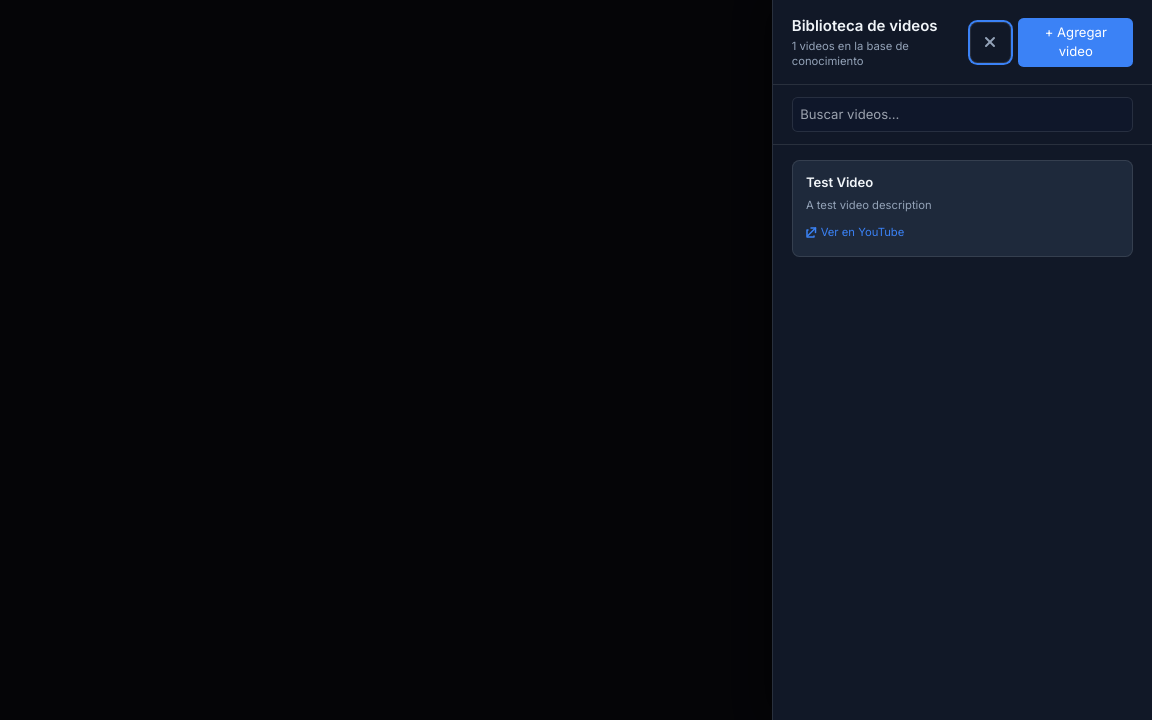
VideoExplorer › handleIngest › shows error message when ingest fails
Expected: the text "Test Video" is shown, 806,174 -> 873,190
Note: Open the ingest dialog
Click the button "+ Agregar video".
click(1076, 42)  # box 1018,18 -> 1133,67
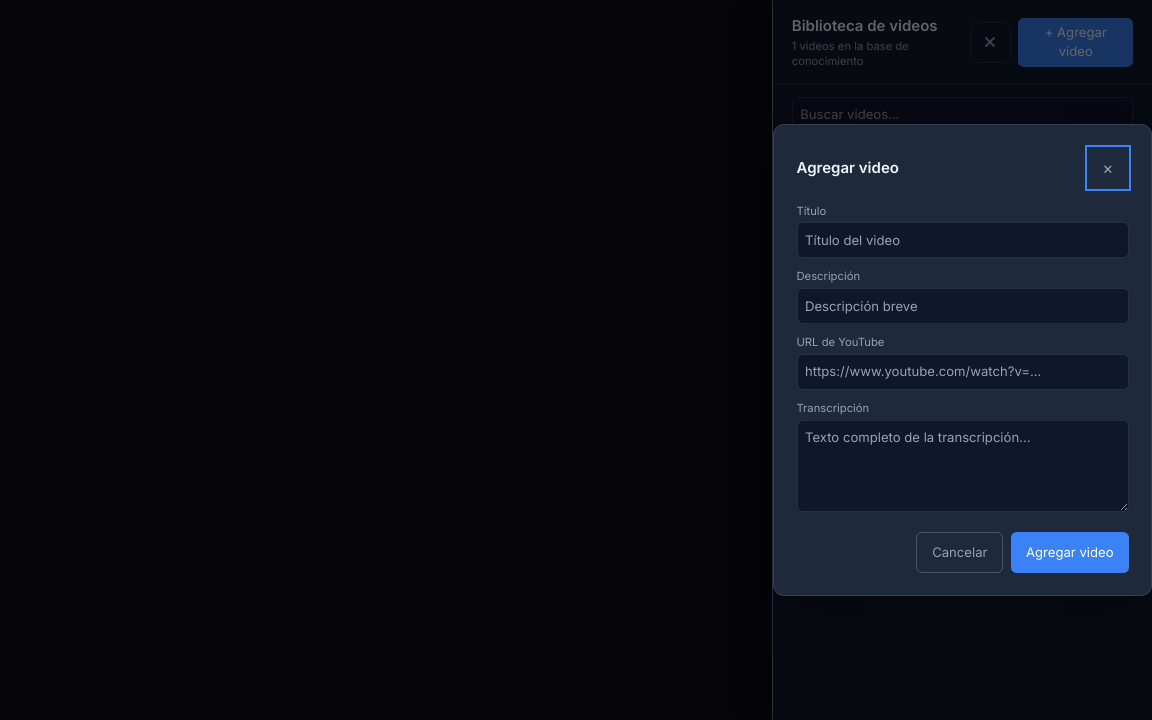
Note: Fill all fields
Type "New Video" into the field labelled "Título".
click(962, 240); type("New Video")  # box 796,222 -> 1128,258
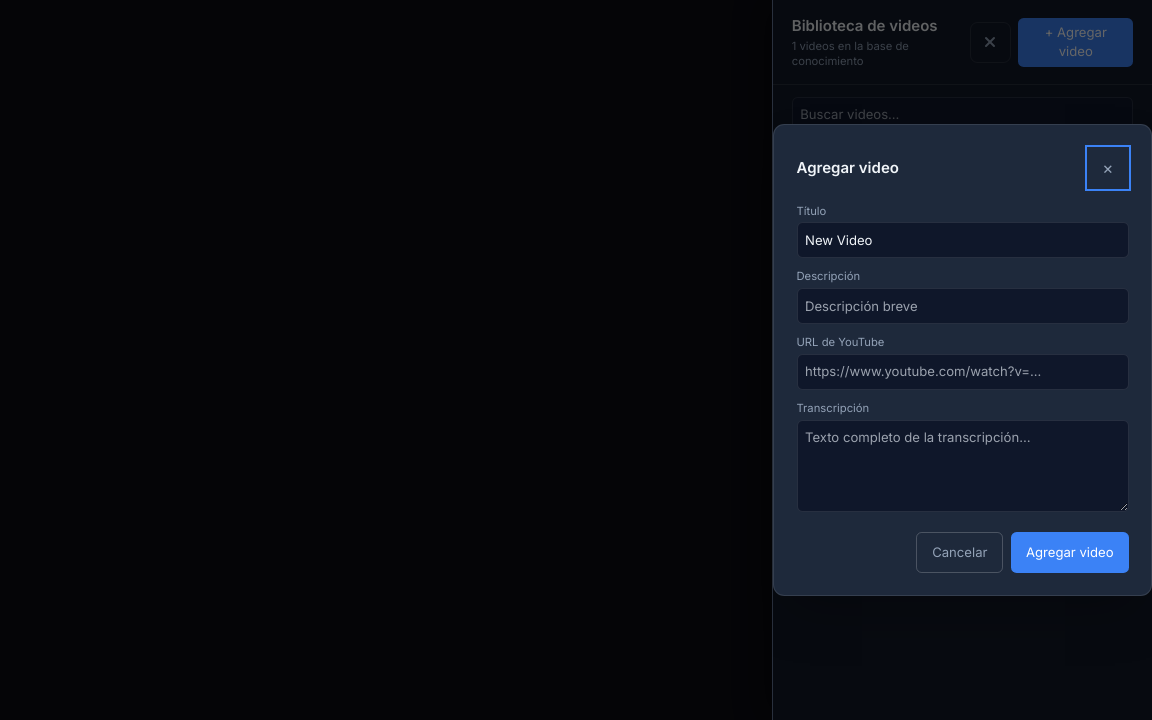
Type "New description" into the field labelled "Descripción".
click(962, 306); type("New description")  # box 796,288 -> 1128,324
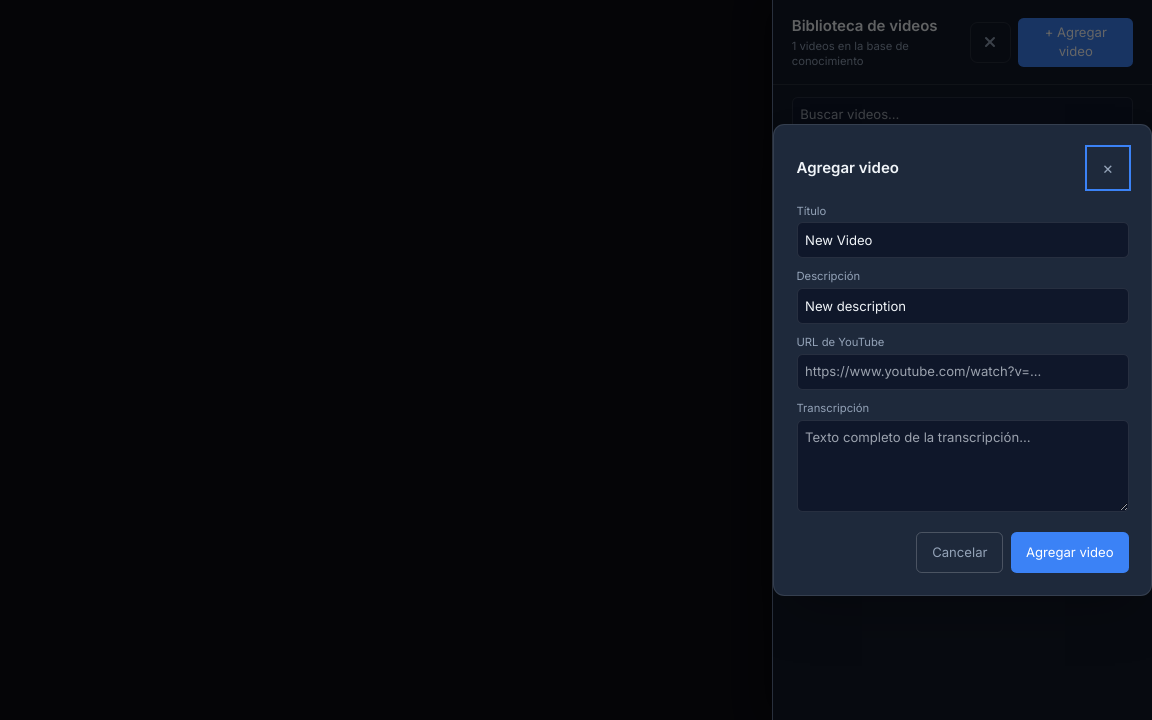
Type "https://youtube.com/watch?v=xyz789" into the field labelled "URL de YouTube".
click(962, 372); type("https://youtube.com/watch?v=xyz789")  # box 796,354 -> 1128,390
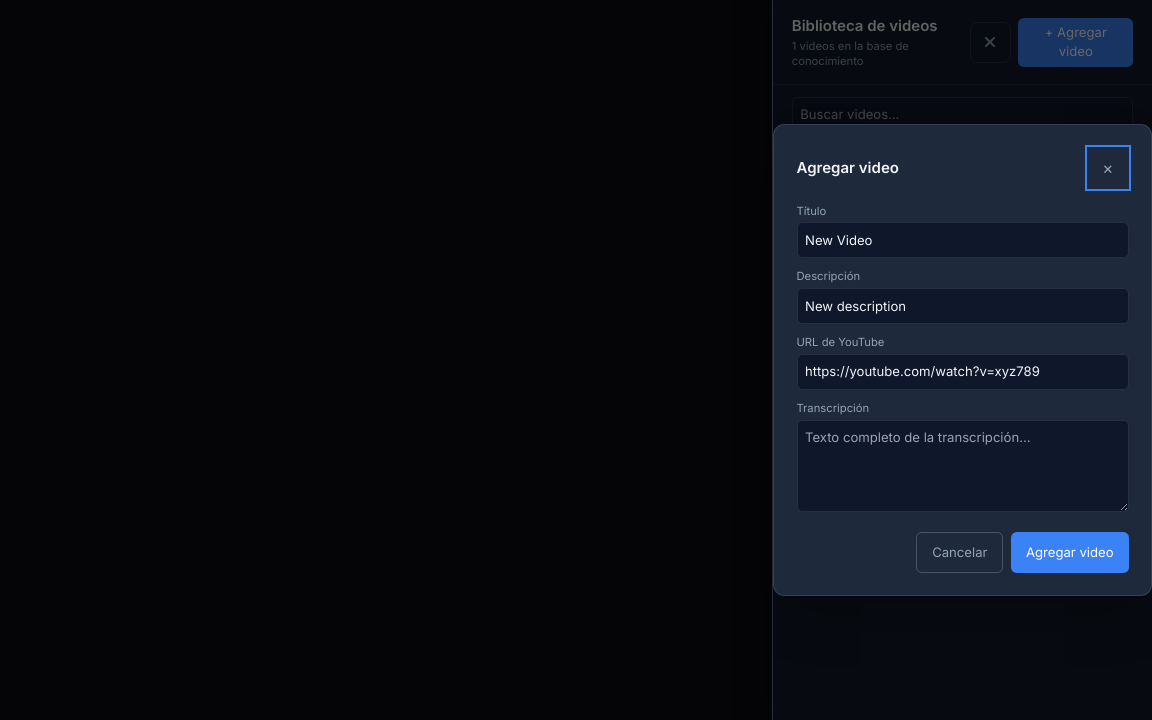
Type "Full transcript text here" into the text box labelled "Transcripción".
click(962, 466); type("Full transcript text here")  # box 796,420 -> 1128,512
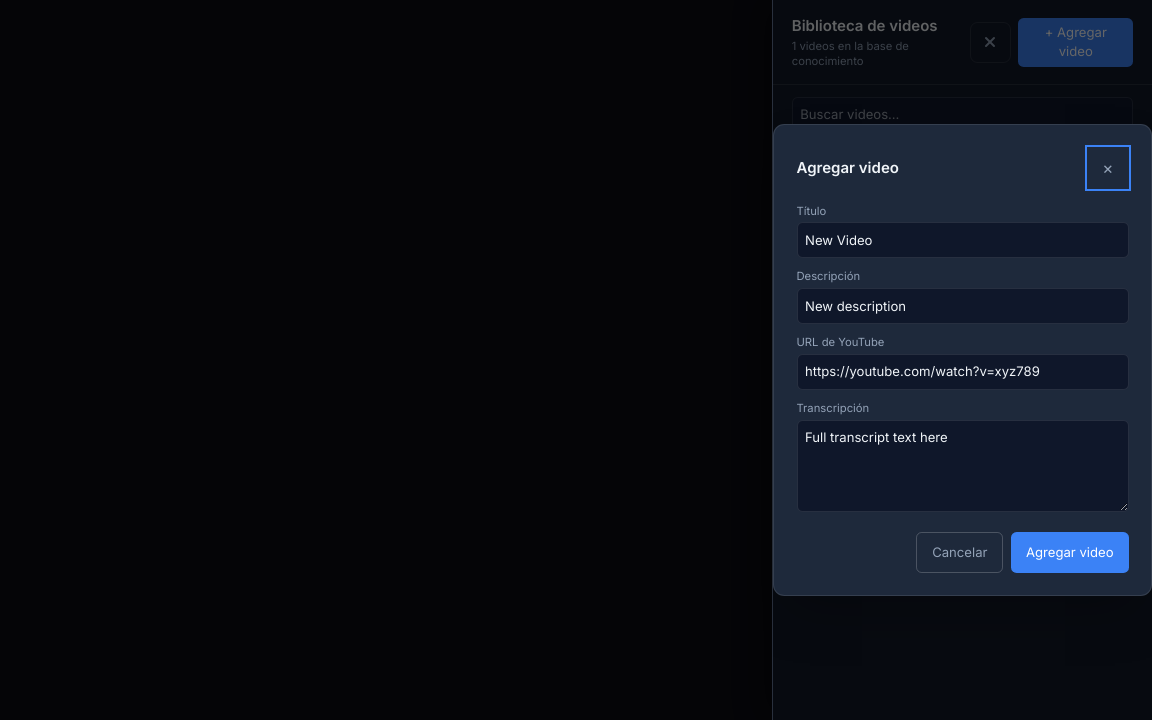
Click the button "Agregar video".
click(1070, 552)  # box 1011,532 -> 1128,573
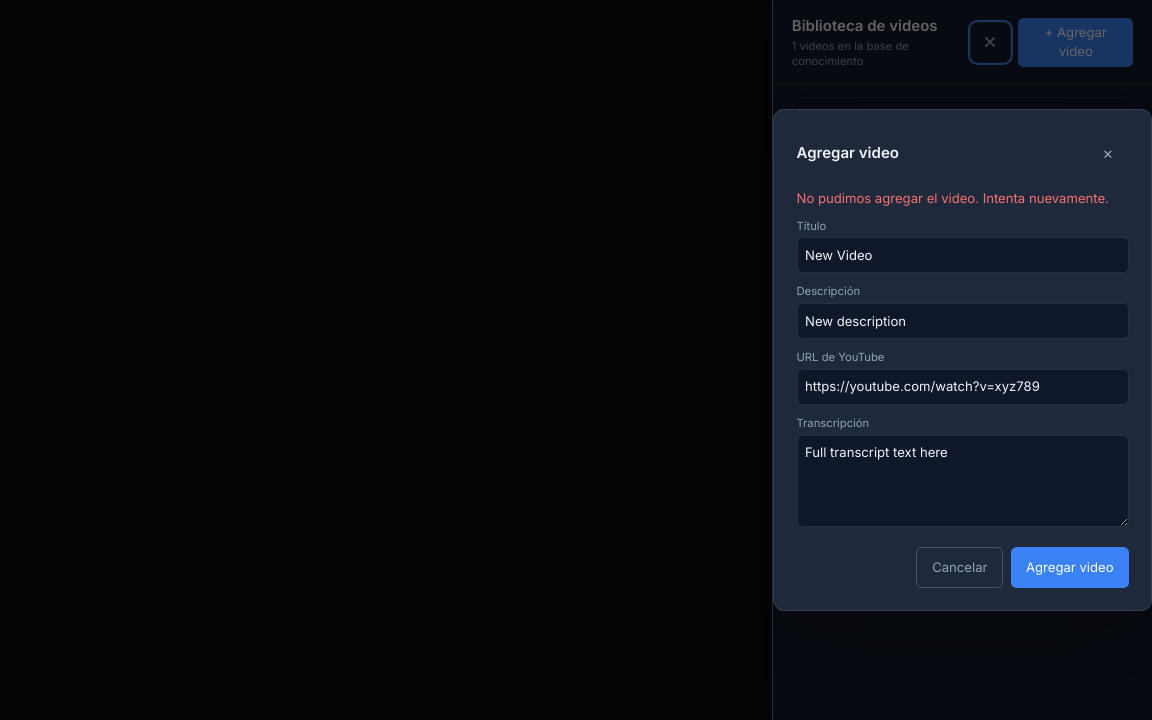
Expected: the text "No pudimos agregar el video. Intenta nuevamente." is shown, 796,188 -> 1128,207
